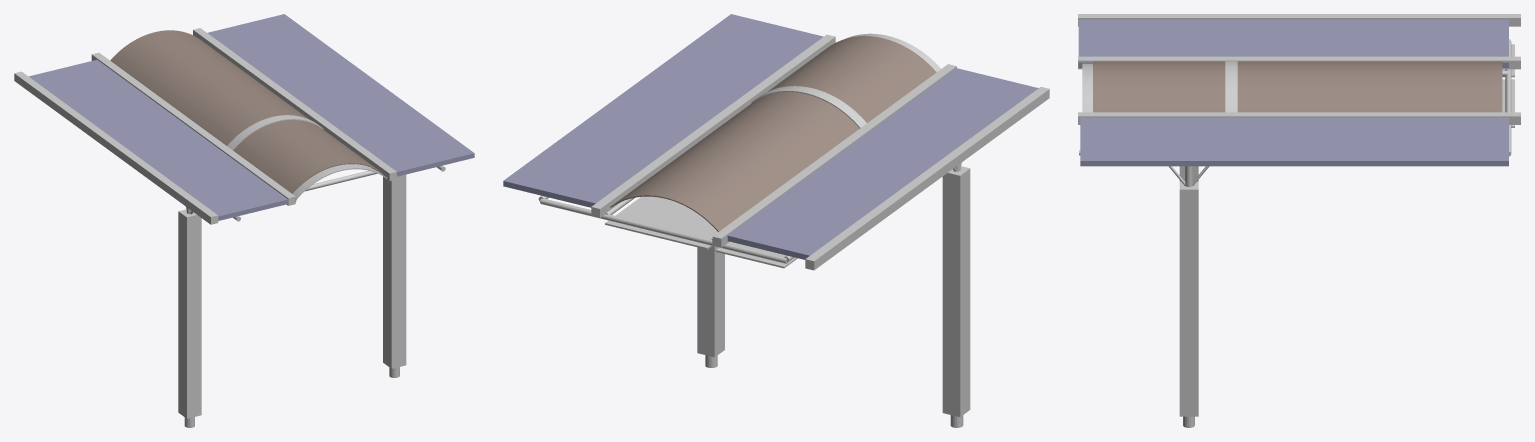
File: Tettoia.fbx
3 renders of one model, left to right at view 1: azimuth 30°, elevation 25°; view 2: azimuth 150°, elevation 25°; view 3: azimuth 270°, elevation 25°, orthographic. The views are drawn at different scales.
Parts seen in each view (by area): view 1: Tettoia; view 2: Tettoia; view 3: Tettoia.
Part boxes in pixels (bbox=[...]): Tettoia: bbox=[14, 14, 474, 427]; Tettoia: bbox=[503, 14, 1049, 427]; Tettoia: bbox=[1078, 14, 1520, 427].
Bounding box in the file's own units: 28.84 × 27.84 × 37.08.
